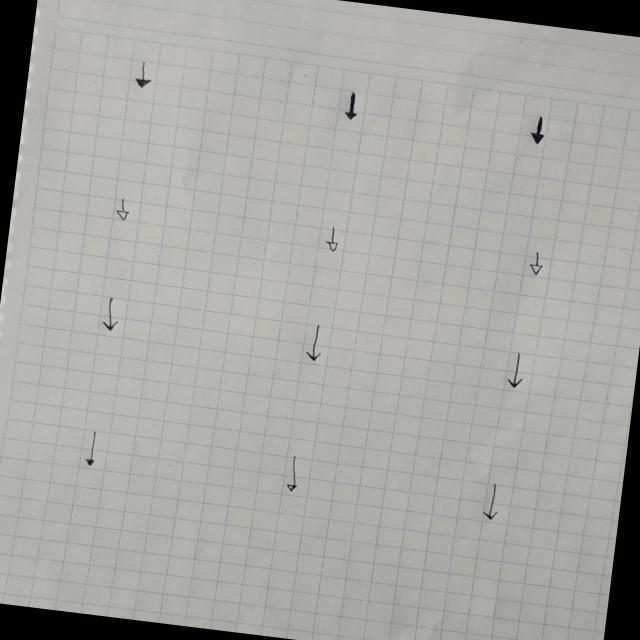arrow_line_down: (300, 323, 328, 364), (479, 480, 503, 522), (97, 295, 122, 332), (504, 350, 527, 390), (339, 88, 364, 121), (283, 453, 303, 493), (526, 113, 548, 148), (131, 58, 154, 90), (82, 428, 100, 466), (526, 249, 546, 277), (322, 225, 342, 252), (114, 196, 132, 223)
